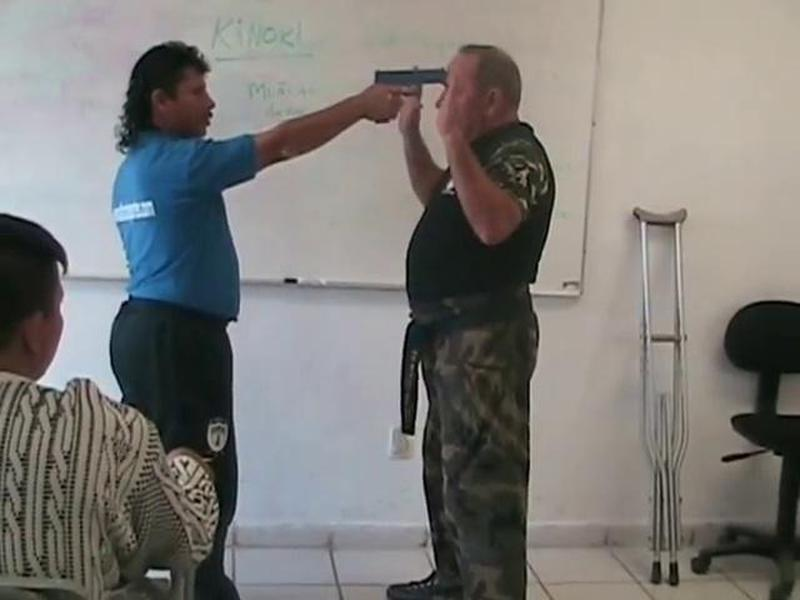Pistola: (368, 60, 448, 134)
